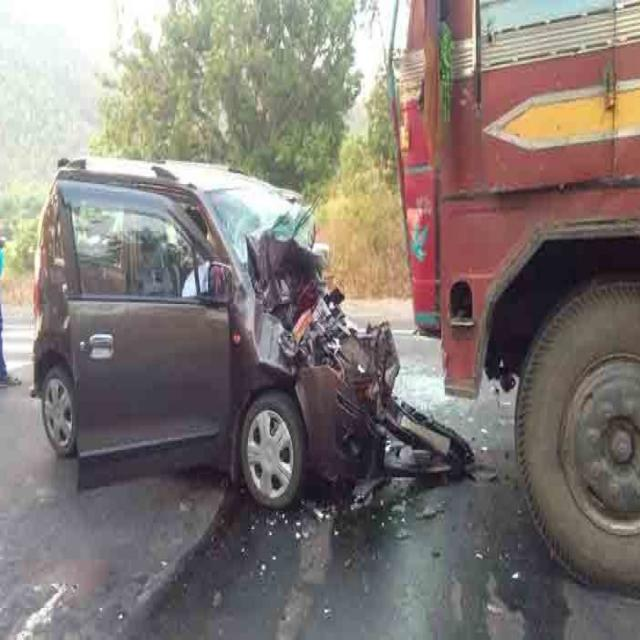accident: (31, 158, 474, 507)
